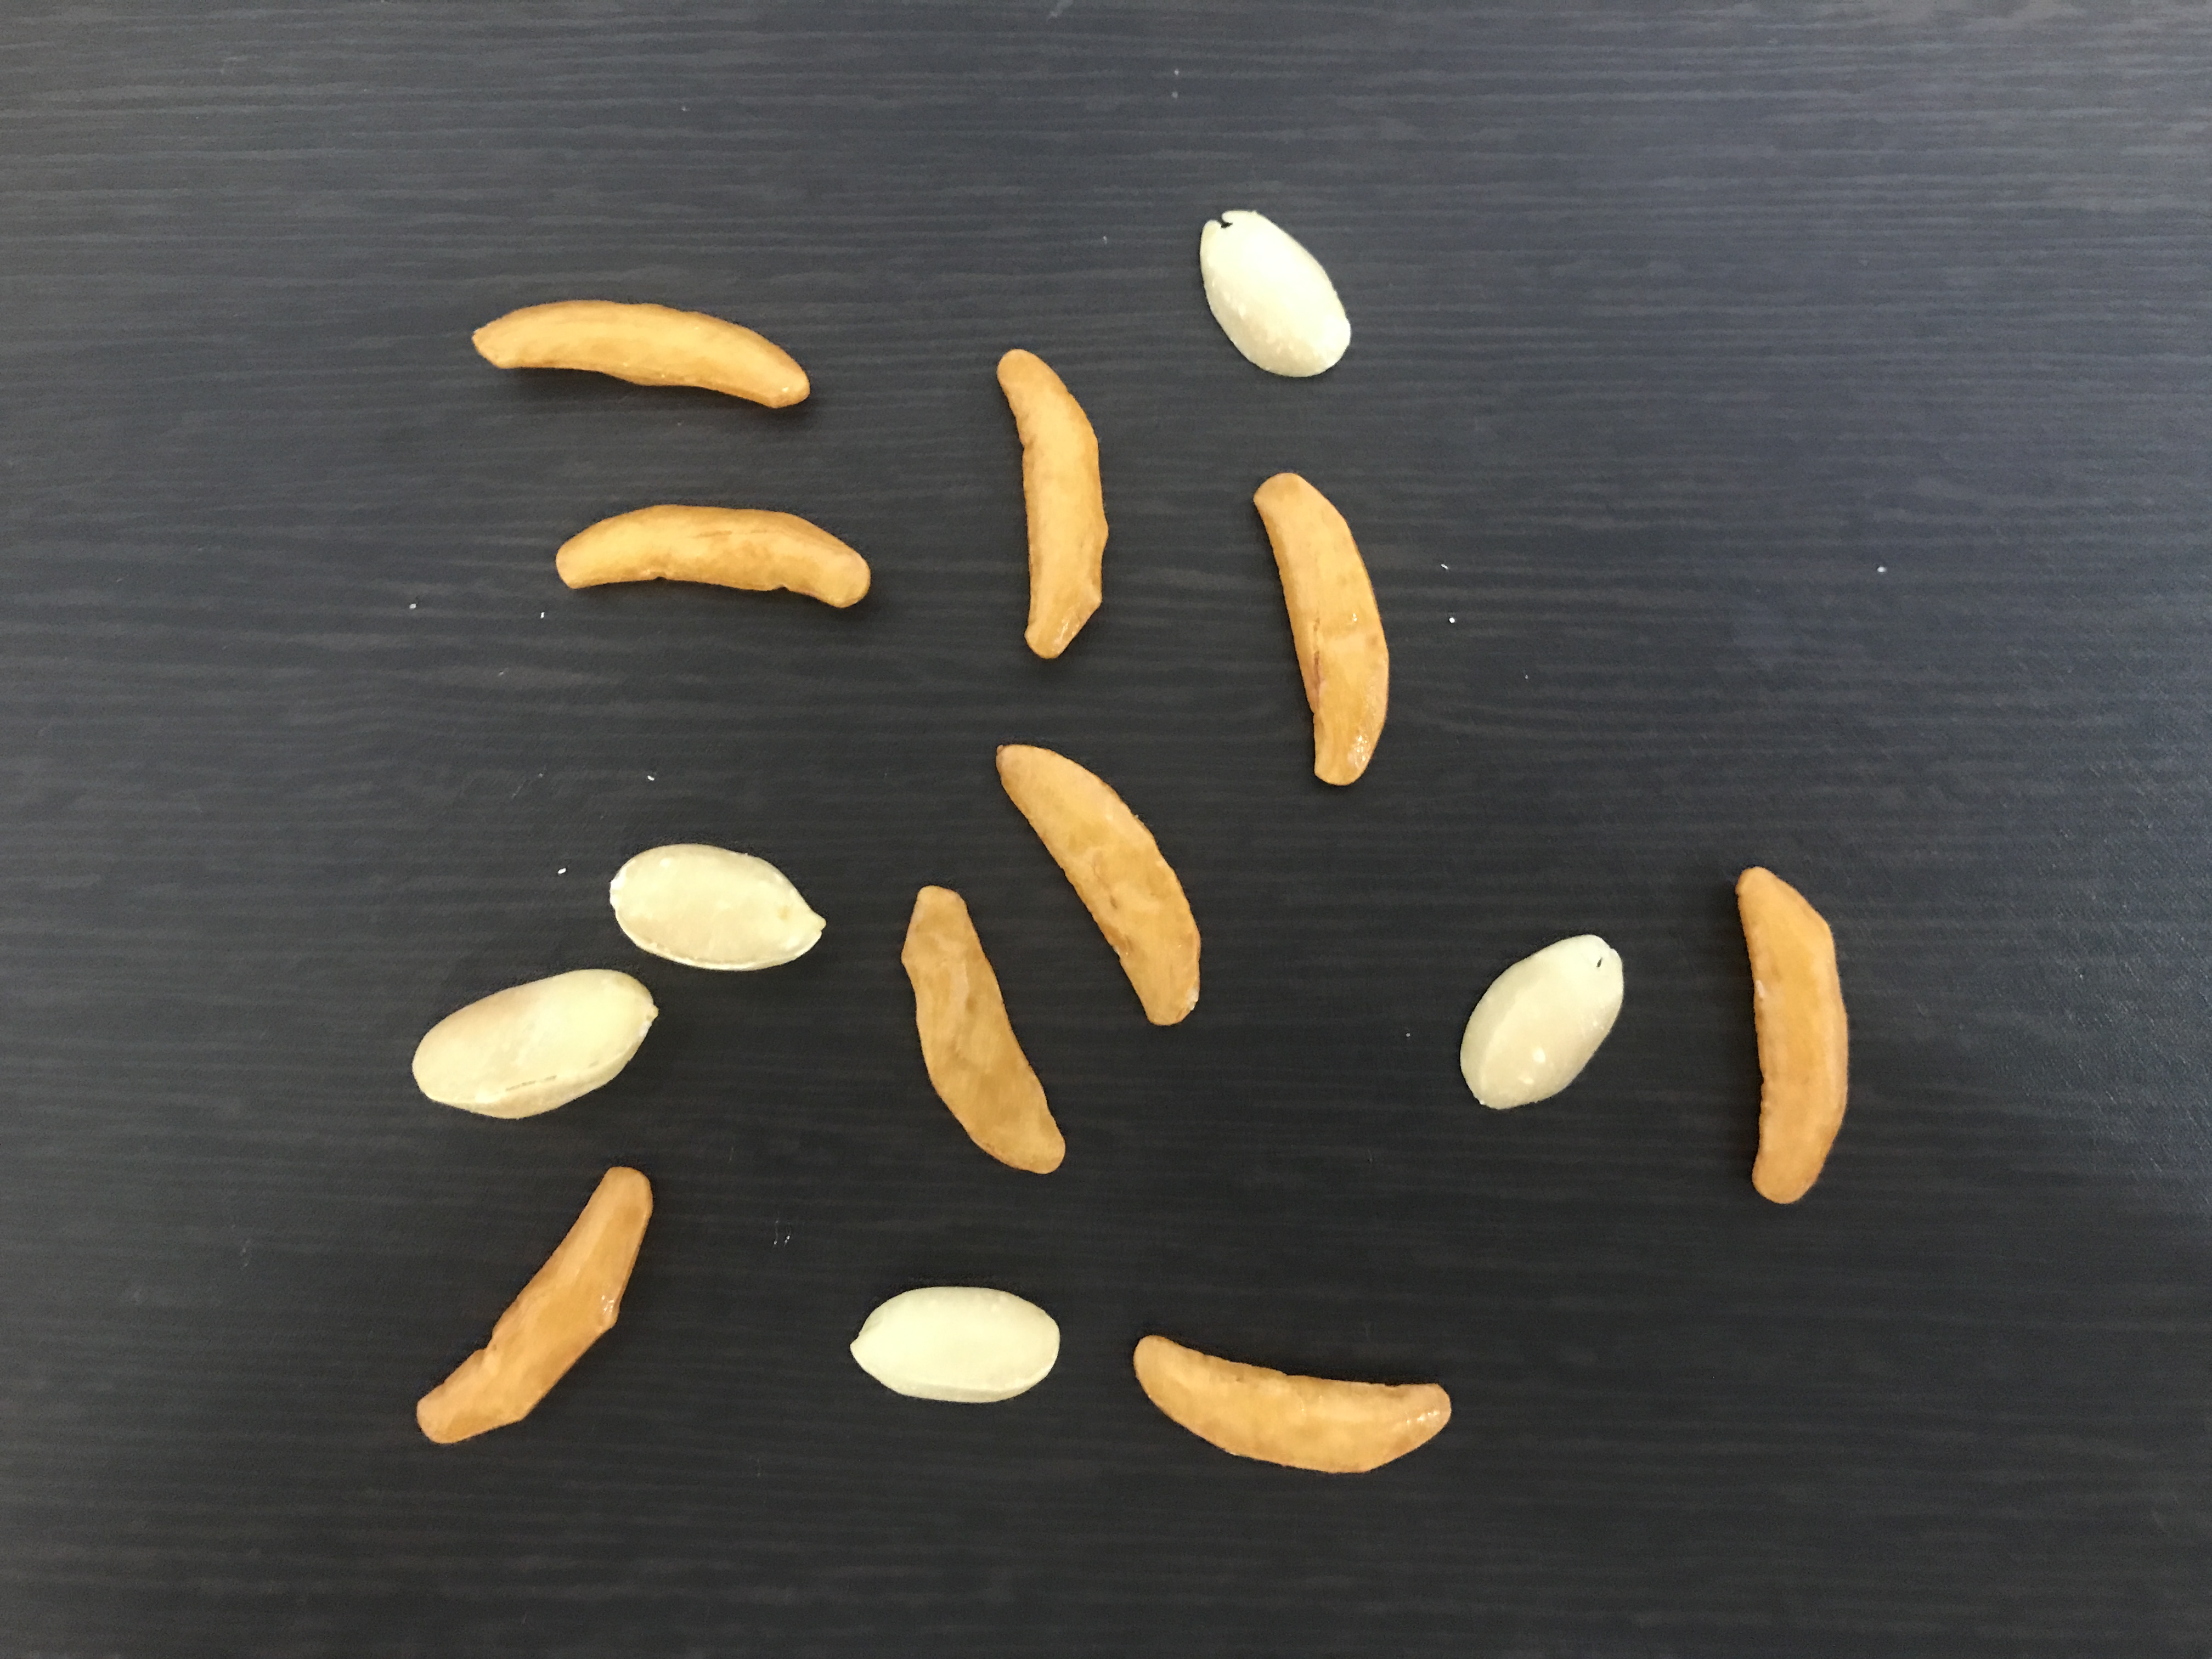peanut: (402, 964, 665, 1121), (1456, 925, 1634, 1115), (1188, 195, 1364, 380), (601, 836, 833, 972), (848, 1277, 1069, 1408)
